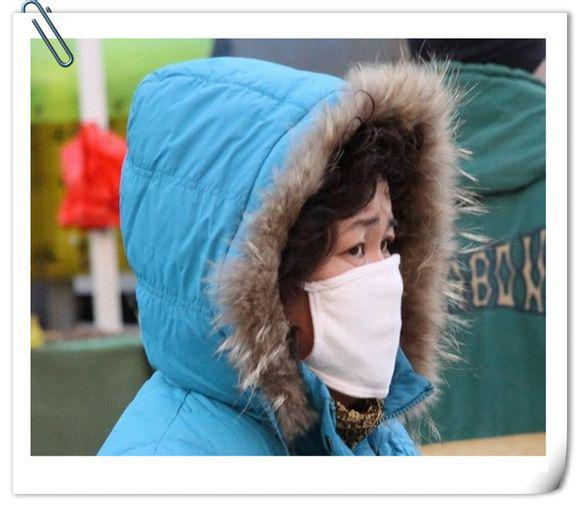OK: (269, 203, 407, 399)
